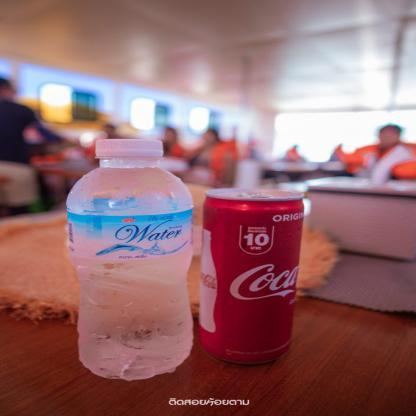plastic_bottle: (65, 135, 199, 385)
